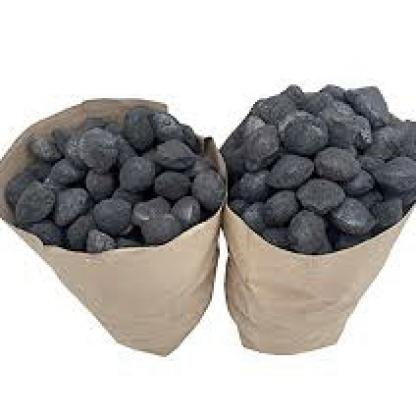Sedimentary_coal: (80, 121, 126, 170), (348, 78, 394, 119), (276, 116, 326, 151), (124, 104, 159, 151), (284, 210, 328, 247), (90, 198, 136, 232), (194, 159, 230, 202), (20, 176, 53, 222), (302, 175, 348, 208), (378, 157, 415, 198), (267, 159, 322, 186), (257, 184, 300, 218), (339, 195, 373, 236), (153, 139, 196, 171), (146, 204, 184, 238), (122, 153, 153, 190), (155, 102, 186, 137), (61, 186, 88, 218), (53, 155, 82, 183)
